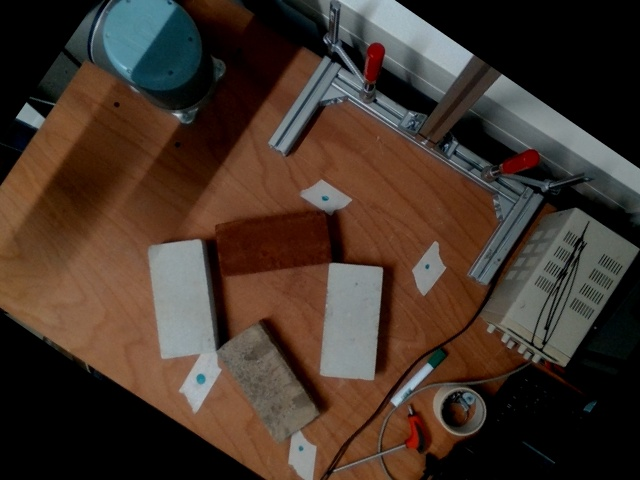brick: (214, 323, 321, 445), (147, 239, 215, 358), (218, 213, 330, 275), (321, 265, 381, 379)
